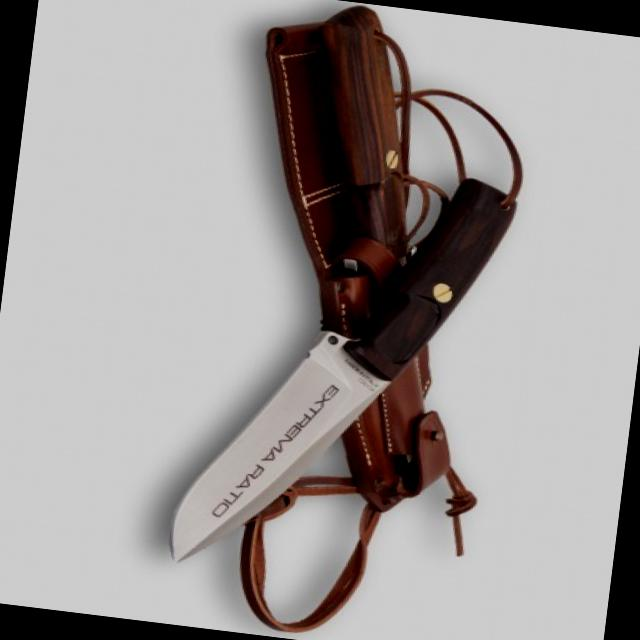knife: (154, 299, 416, 601)
